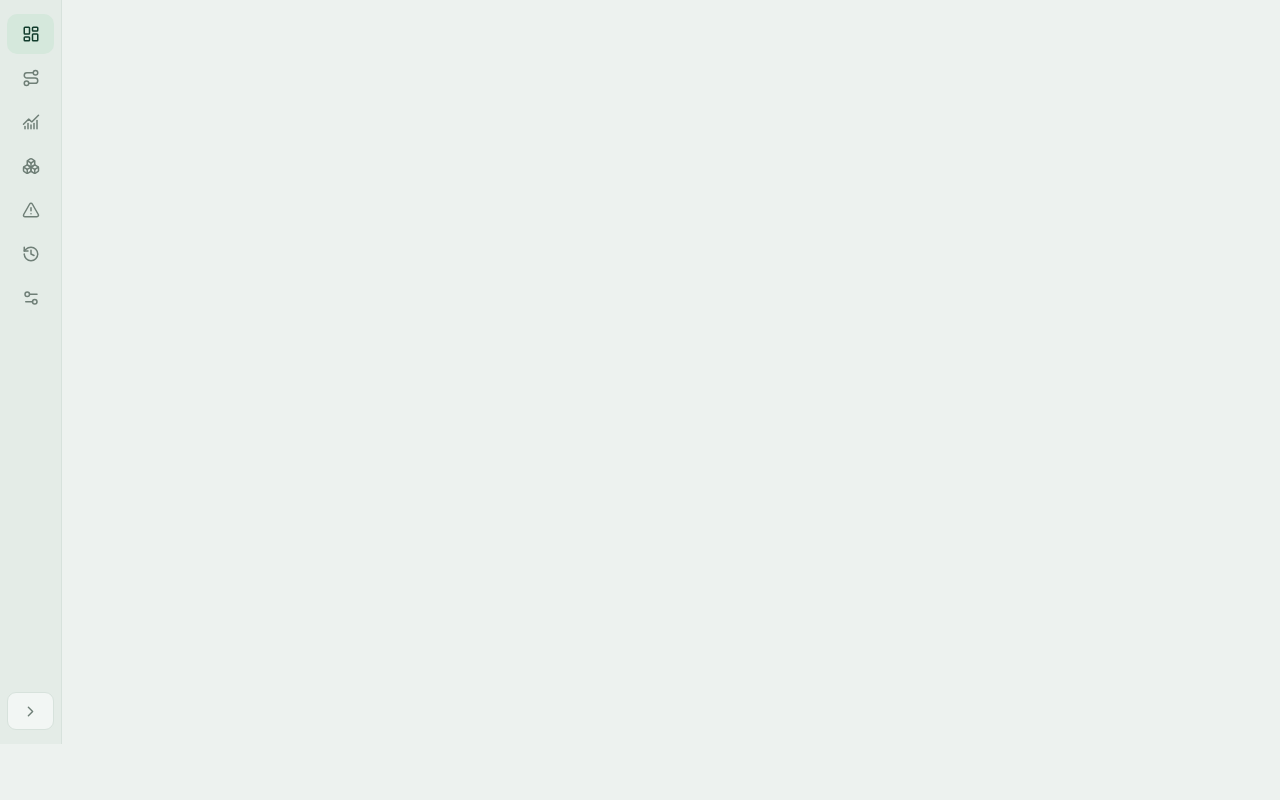
Test case: defaults narrow layouts to an icon rail and closes overlay with Escape
Click the button named "Expand sidebar": (30, 711) top-left (7, 692), bottom-right (54, 730)
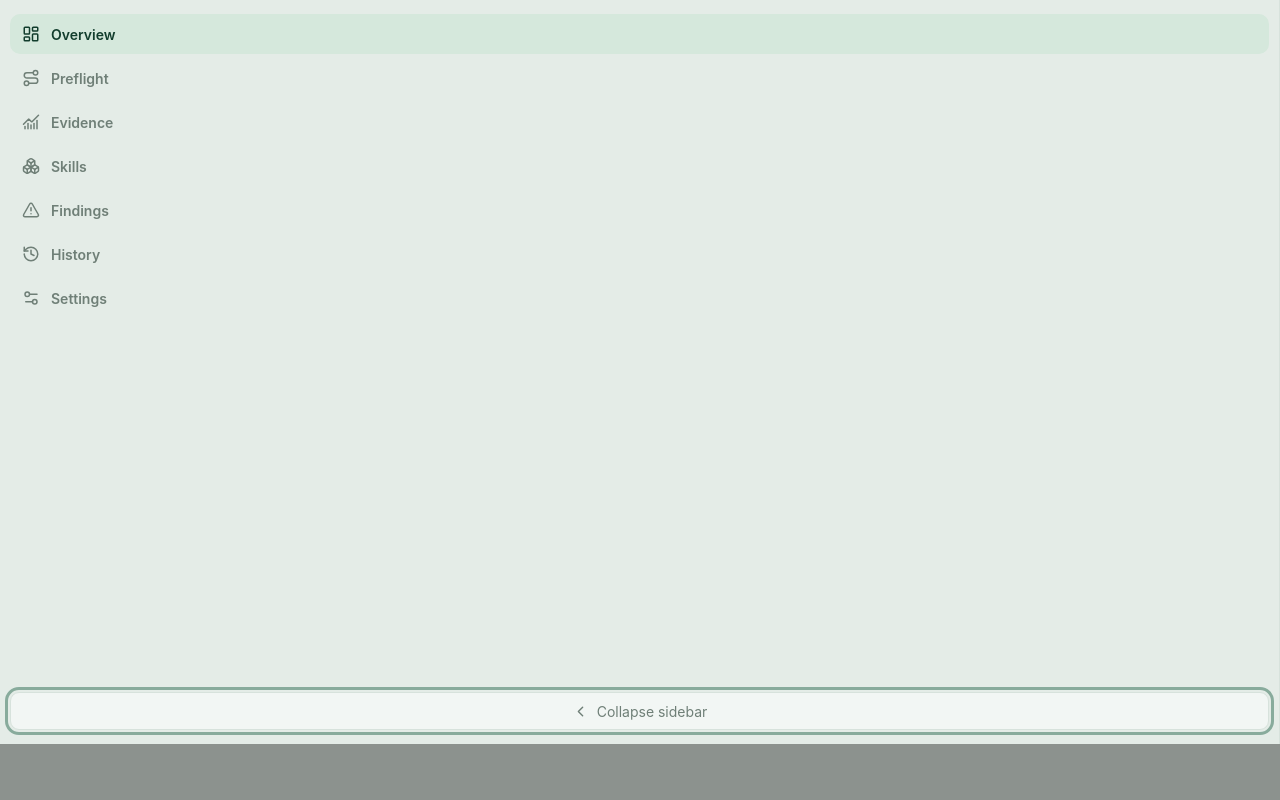
Check: the navigation bar named "Primary navigation" has attribute data-overlay="true", box top-left (10, 14), bottom-right (1269, 318)
Press Escape
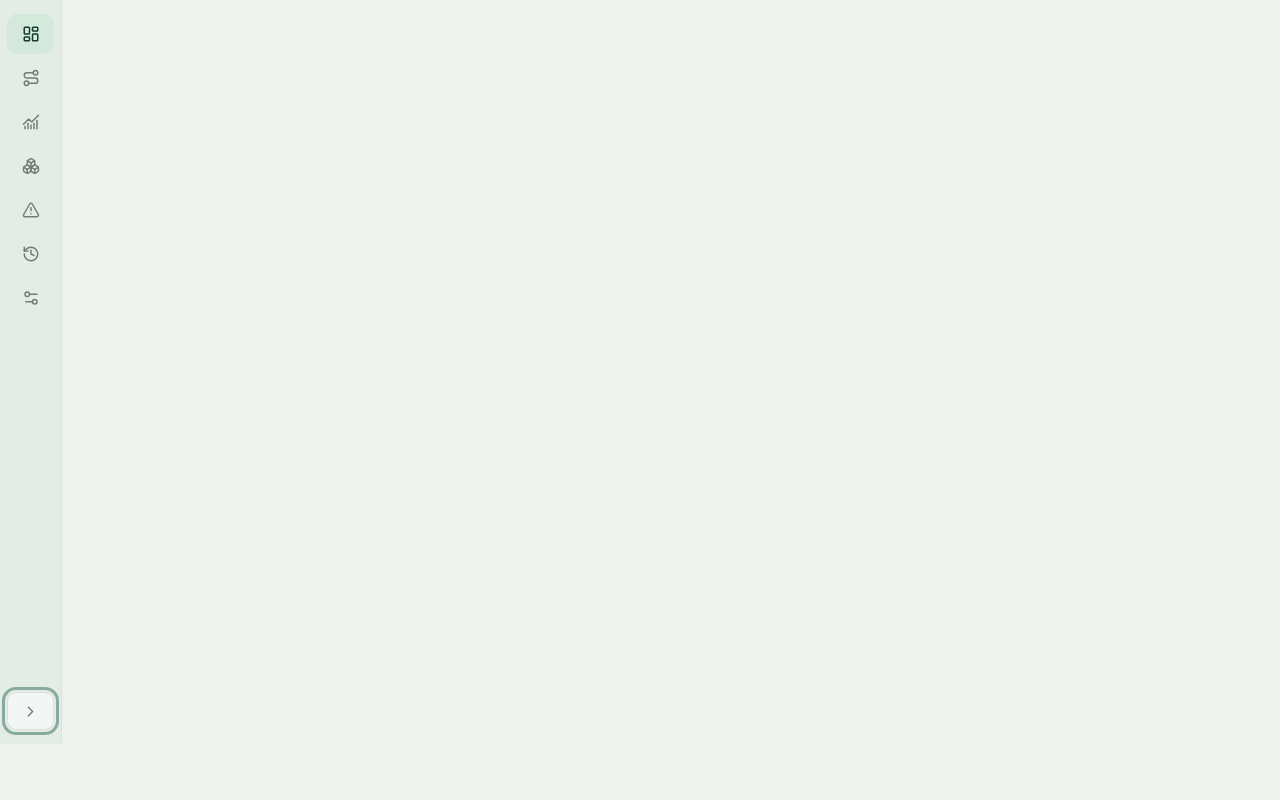
Check: the button named "Expand sidebar" is shown, box top-left (7, 692), bottom-right (54, 730)
